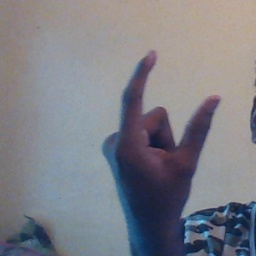U: (98, 48, 225, 203)
